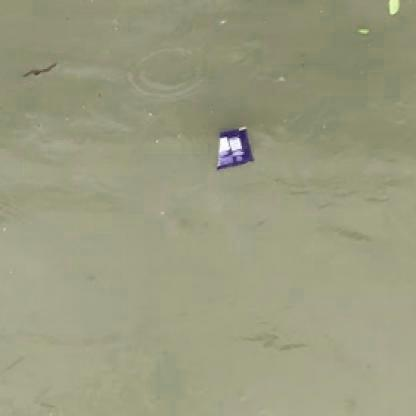Trash: (212, 124, 256, 171)
